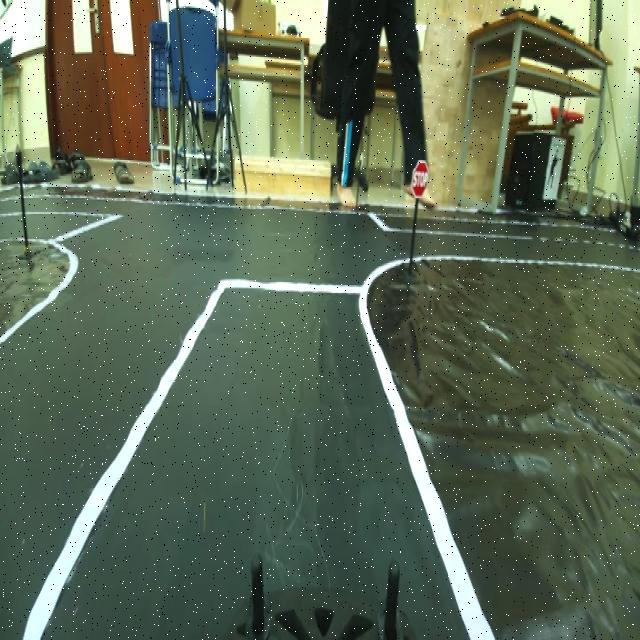stop: (408, 150, 437, 204)
